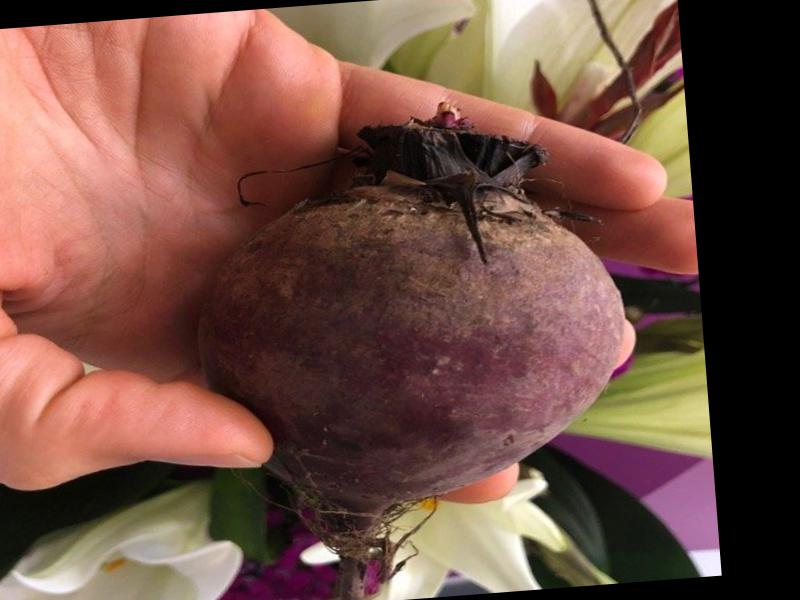Beet: (182, 92, 647, 600)
